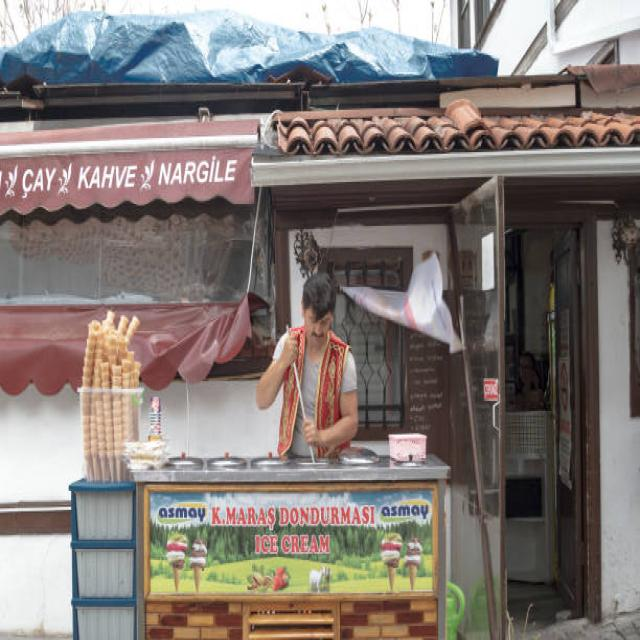Emperan: (58, 264, 456, 640)
